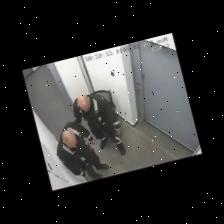person: (72, 94, 124, 155), (56, 122, 108, 179)
